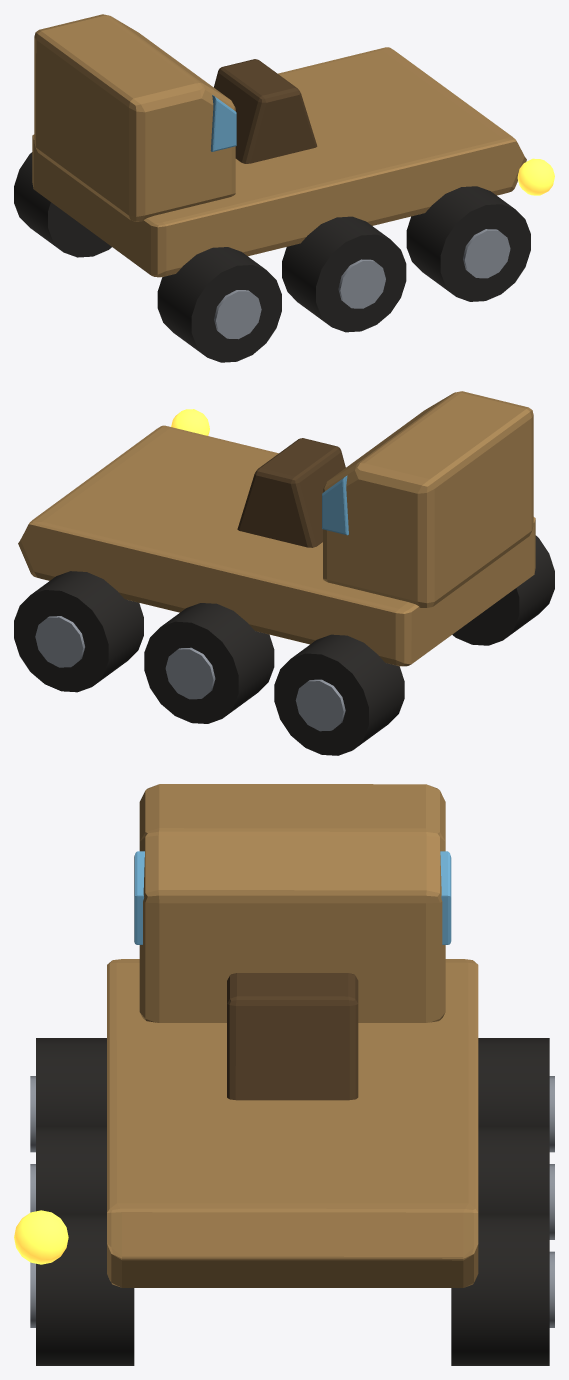
Rendered from nuke_l.glb.
3 views of the same model, one above another, from view 1: azimuth 30°, elevation 25°; view 2: azimuth 150°, elevation 25°; view 3: azimuth 270°, elevation 25° (orthographic). The views are drawn at different scales.
Parts seen in each view (by area): view 1: deck, cab, wheel.004, wheel.002, wheel, bracket, wheel.001, hub.004, hub.002, hub, window, lamp; view 2: deck, cab, wheel.003, wheel.001, wheel.005, bracket, wheel, hub.005, hub.001, hub.003, window, lamp; view 3: deck, cab, bracket, wheel.005, wheel.004, wheel.003, wheel.001, wheel.002, wheel, lamp, window.
Part boxes in pixels (x1,y1,x2,y2): deck: [32, 47, 526, 277]; cab: [34, 14, 235, 221]; wheel.004: [406, 186, 530, 301]; wheel.002: [282, 216, 406, 332]; wheel: [157, 247, 281, 362]; bracket: [214, 59, 317, 163]; wheel.001: [14, 152, 111, 257]; hub.004: [463, 229, 510, 278]; hub.002: [338, 259, 385, 308]; hub: [214, 290, 261, 339]; window: [210, 95, 236, 151]; lamp: [517, 158, 554, 195]; deck: [18, 425, 535, 666]; cab: [323, 391, 533, 607]; wheel.003: [144, 603, 274, 723]; wheel.001: [274, 634, 404, 755]; wheel.005: [14, 571, 143, 692]; bracket: [237, 438, 345, 547]; wheel: [452, 535, 554, 645]; hub.005: [35, 616, 84, 667]; hub.001: [295, 679, 345, 731]; hub.003: [165, 647, 215, 699]; window: [322, 475, 348, 535]; lamp: [171, 409, 209, 435]; deck: [107, 959, 478, 1287]; cab: [139, 784, 445, 1022]; bracket: [227, 973, 358, 1100]; wheel.005: [451, 1213, 549, 1365]; wheel.004: [36, 1213, 134, 1365]; wheel.003: [478, 1125, 549, 1213]; wheel.001: [478, 1038, 549, 1125]; wheel.002: [36, 1125, 106, 1213]; wheel: [36, 1038, 106, 1125]; lamp: [14, 1210, 68, 1264]; window: [134, 851, 451, 944].
Size of the model in its own units: 11.7 by 7.2 by 9.9.
